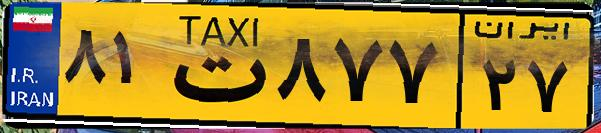1: (110, 28, 158, 98)
2: (475, 38, 525, 113)
7: (385, 28, 445, 110), (330, 28, 385, 110), (525, 38, 570, 115)
8: (270, 28, 330, 110), (57, 26, 110, 100)
ت: (158, 12, 270, 120)
